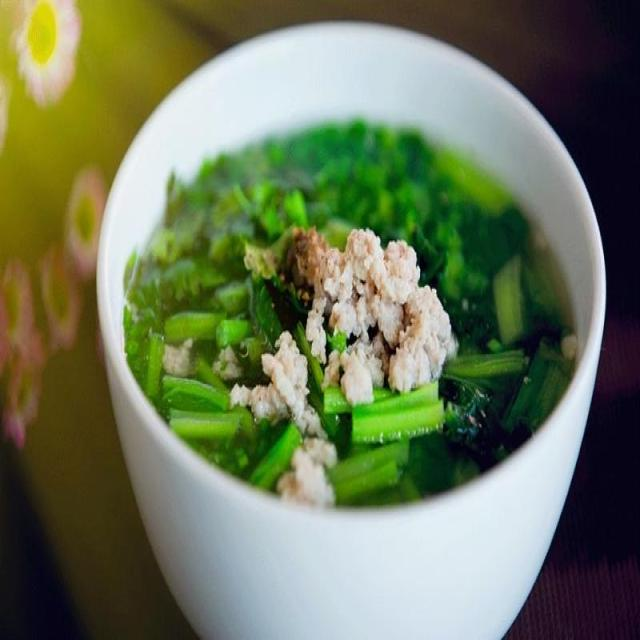canh cai: (122, 117, 574, 512)
